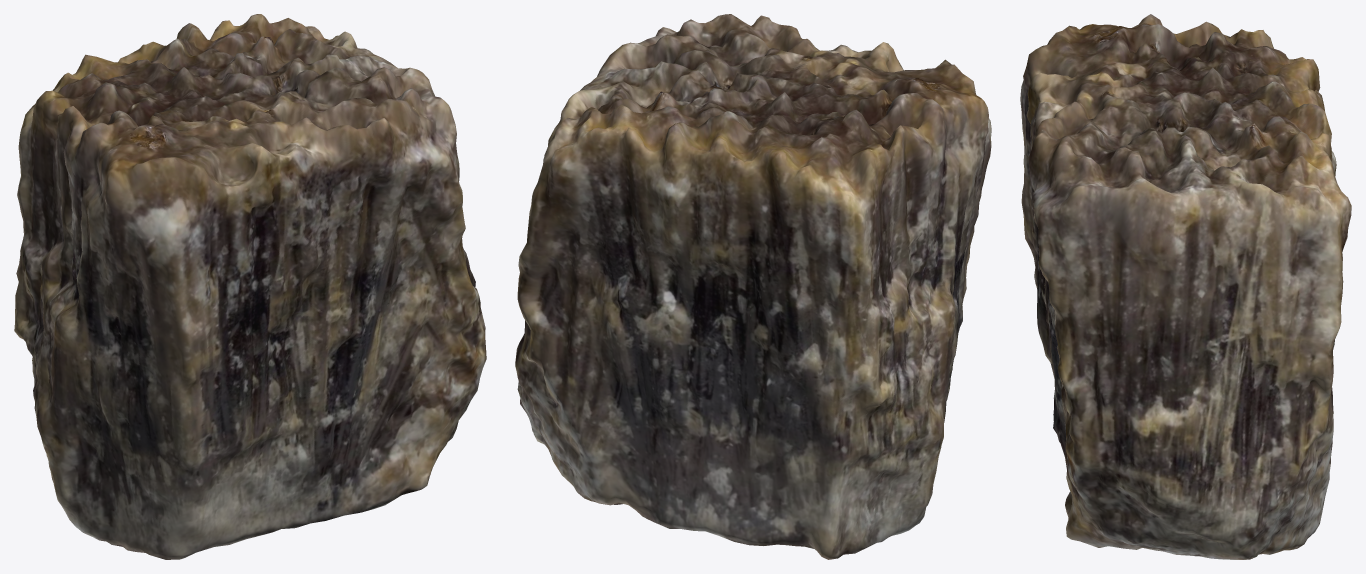
The picture shows the model from 3 angles, left to right: view 1: azimuth 30°, elevation 25°; view 2: azimuth 150°, elevation 25°; view 3: azimuth 270°, elevation 25°; orthographic projection. The views are drawn at different scales.
Visible parts, largest first — view 1: RM-0050; view 2: RM-0050; view 3: RM-0050.
Boxes of the visible parts, box(x1,y1,x2,y2) form: RM-0050: box(14, 14, 486, 559); RM-0050: box(515, 14, 991, 559); RM-0050: box(1020, 14, 1351, 559).
Size of the model in its own units: 0.0506 by 0.0505 by 0.0366.
Materials: 1 (1 with a texture image).
